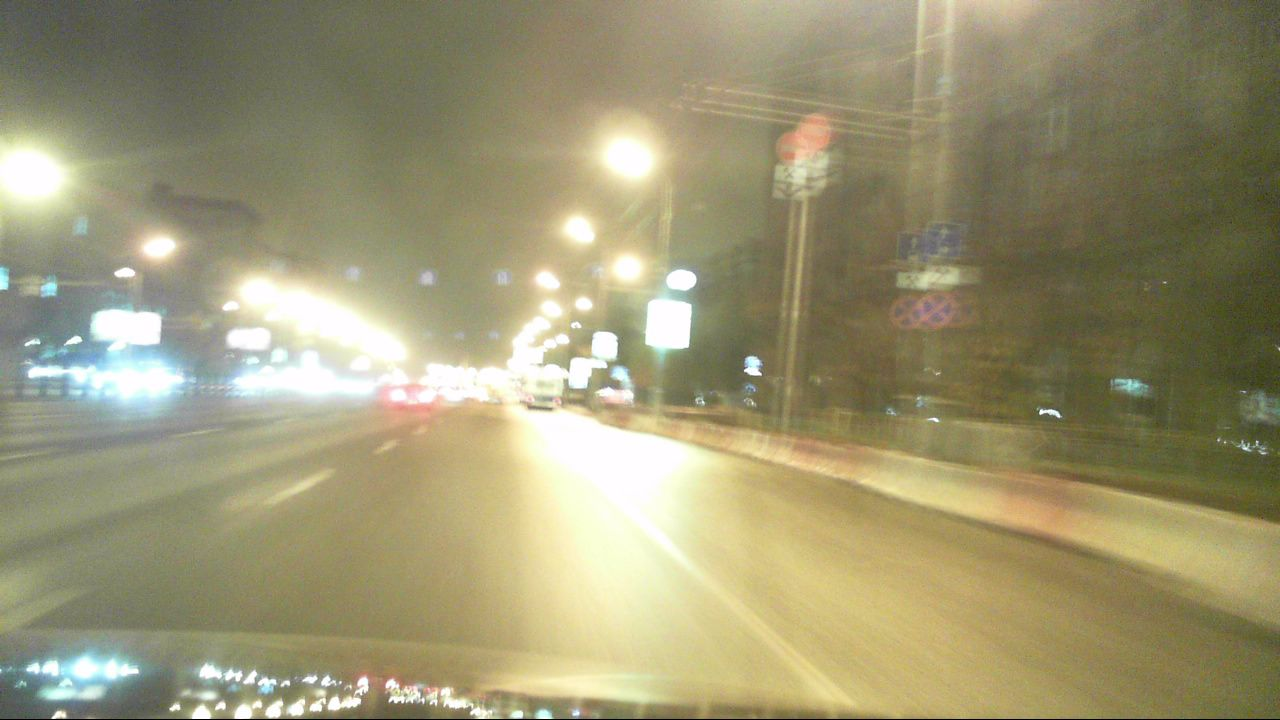No Parking: (919, 292, 957, 326)
